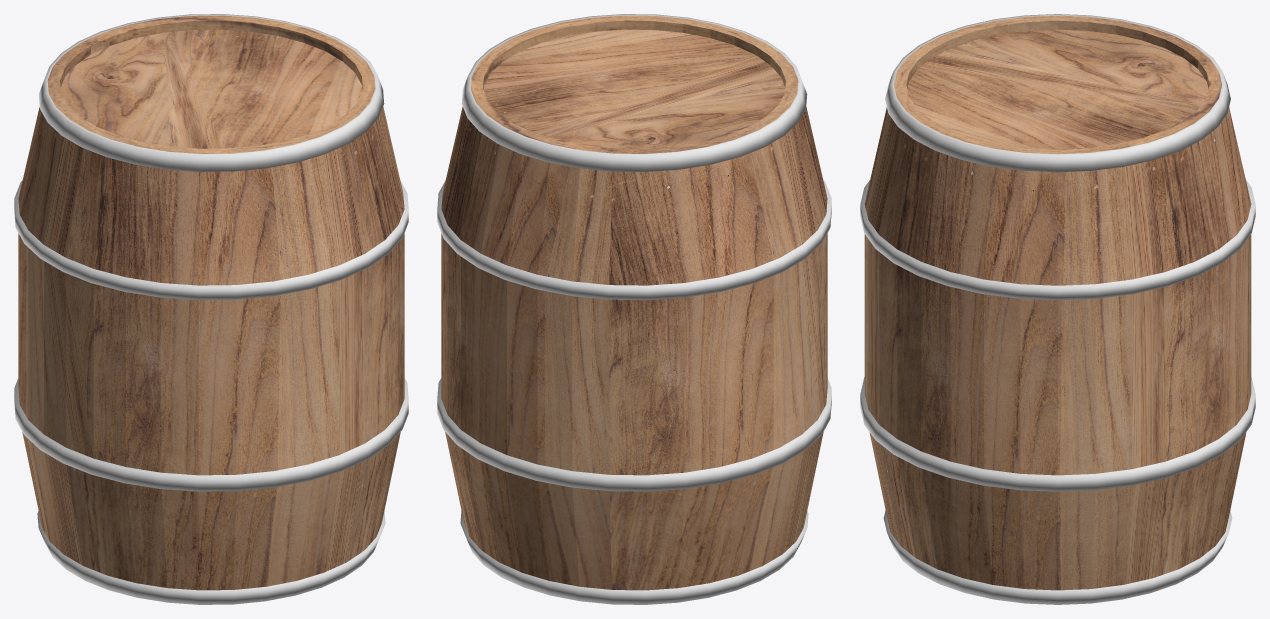
The model's file is WoodenBarrel.fbx.
3 views of the same model, side by side, from view 1: azimuth 30°, elevation 25°; view 2: azimuth 150°, elevation 25°; view 3: azimuth 270°, elevation 25° (orthographic).
Visible parts, largest first — view 1: Cylinder; view 2: Cylinder; view 3: Cylinder.
Part boxes in pixels (x1,y1,x2,y2): Cylinder: (14,14,408,604); Cylinder: (437,14,831,604); Cylinder: (860,14,1255,604).
Bounding box in the file's own units: 159 × 200 × 159.
